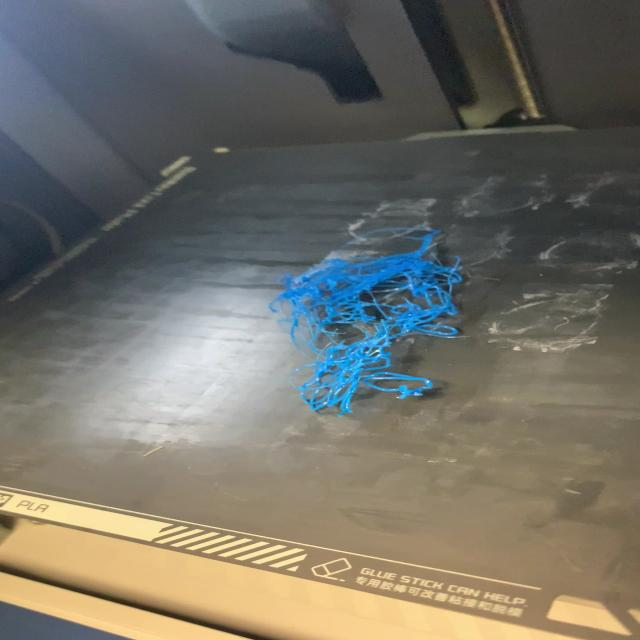spaghetti: (266, 223, 471, 418)
